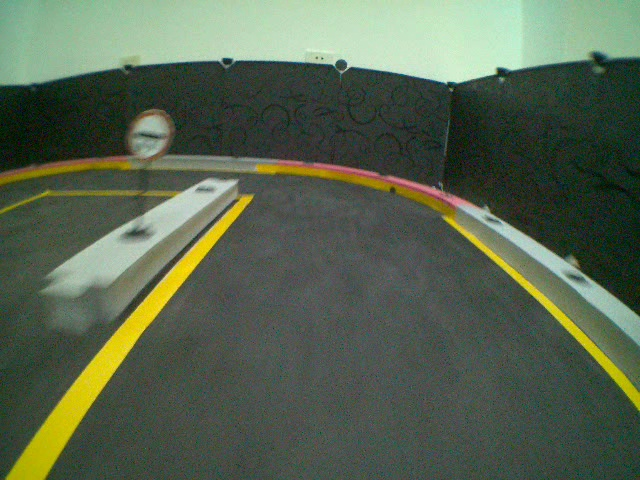Check: (127, 108, 177, 160)
